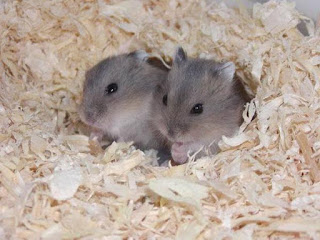mouse: (64, 39, 152, 169), (153, 45, 245, 161)
